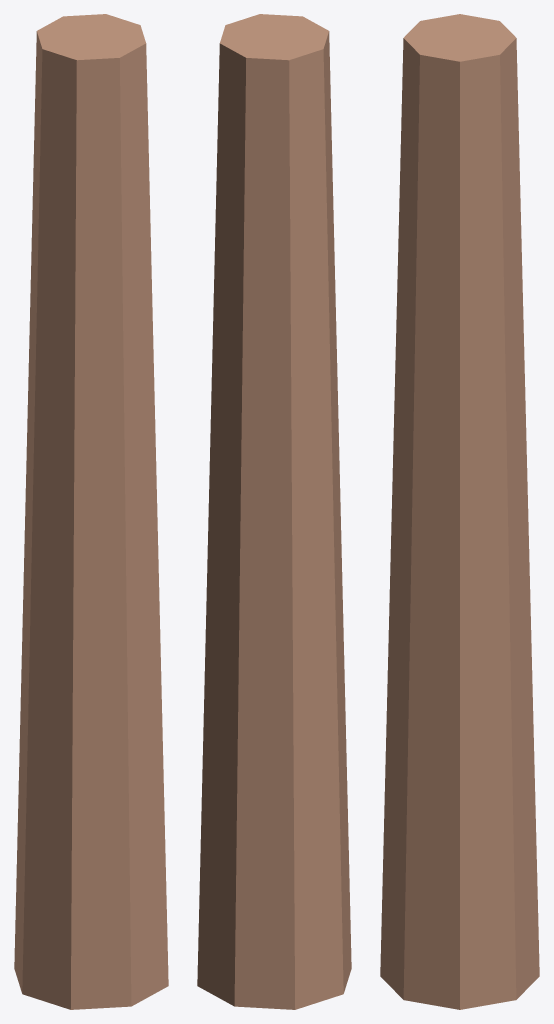
Rendered from wk_buck_standard_upper_arm_v01.glb.
The picture shows the model from 3 angles, left to right: view 1: azimuth 30°, elevation 25°; view 2: azimuth 150°, elevation 25°; view 3: azimuth 270°, elevation 25°; orthographic projection.
Visible parts, largest first — view 1: GEO_upper_arm.001; view 2: GEO_upper_arm.001; view 3: GEO_upper_arm.001.
Boxes of the visible parts, bbox=[...] form: GEO_upper_arm.001: bbox=[14, 14, 168, 1009]; GEO_upper_arm.001: bbox=[197, 14, 351, 1009]; GEO_upper_arm.001: bbox=[380, 14, 539, 1009].
Bounding box in the file's own units: 0.154 × 1 × 0.154.
